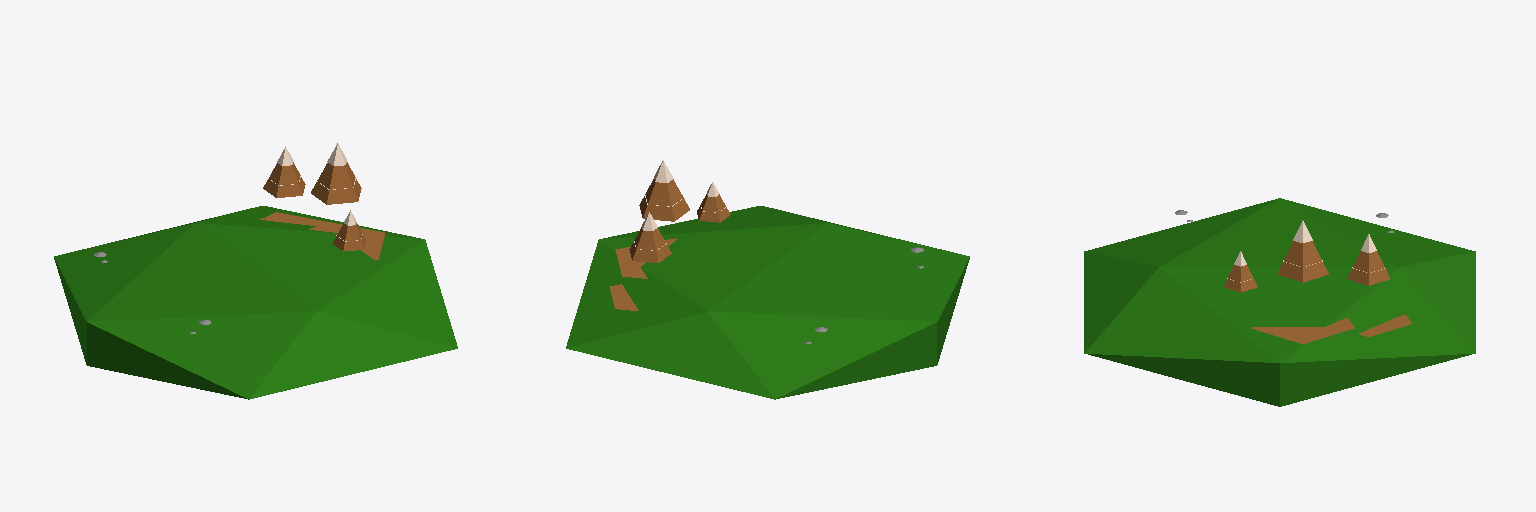
File: new_terrain.obj
The picture shows the model from 3 angles: view 1: azimuth 30°, elevation 25°; view 2: azimuth 150°, elevation 25°; view 3: azimuth 270°, elevation 25°; orthographic projection.
Size of the model in its own units: 432 by 200 by 432.